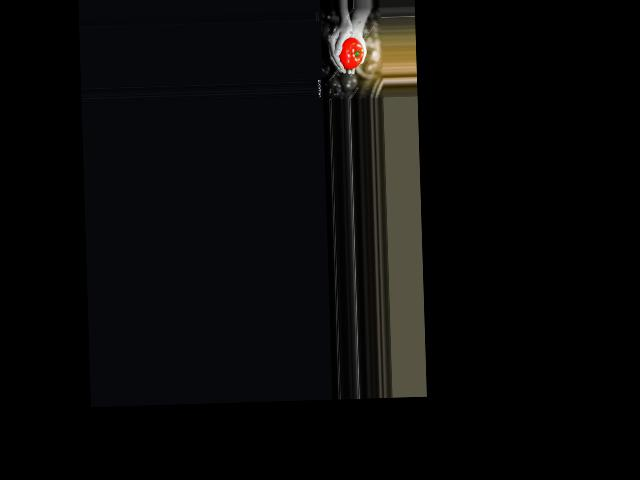tomato: (338, 36, 363, 69)
